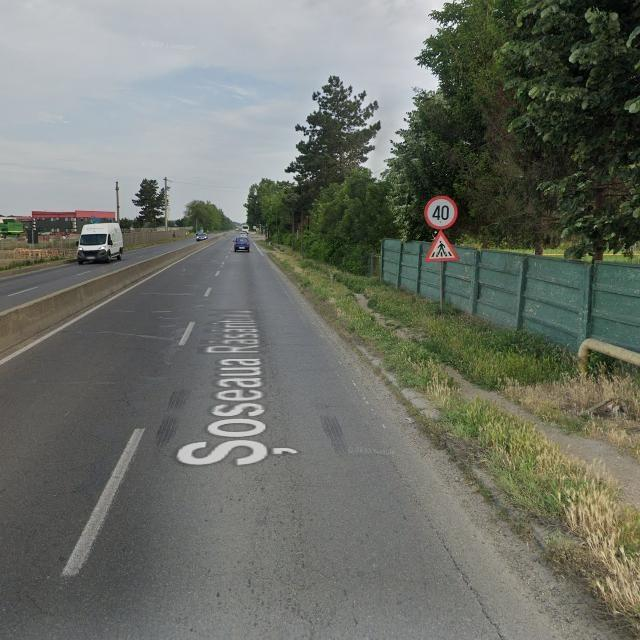forb_speed_over_40: (424, 196, 458, 230)
warn_crosswalk: (425, 230, 460, 262)
